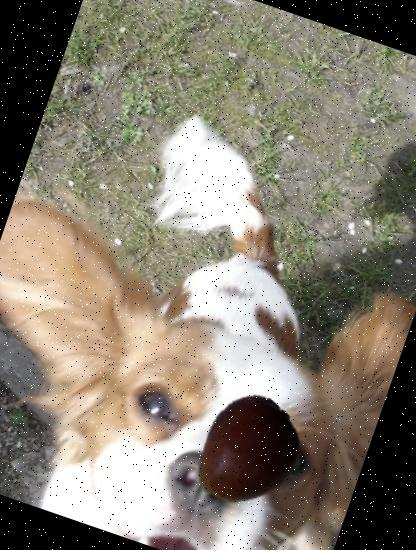Mango: (174, 381, 320, 526)
